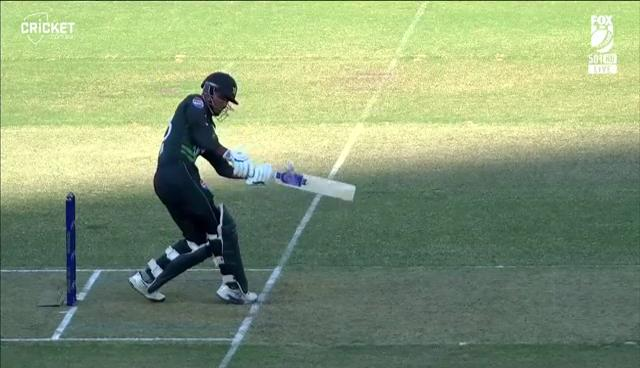ball: (278, 154, 307, 173)
